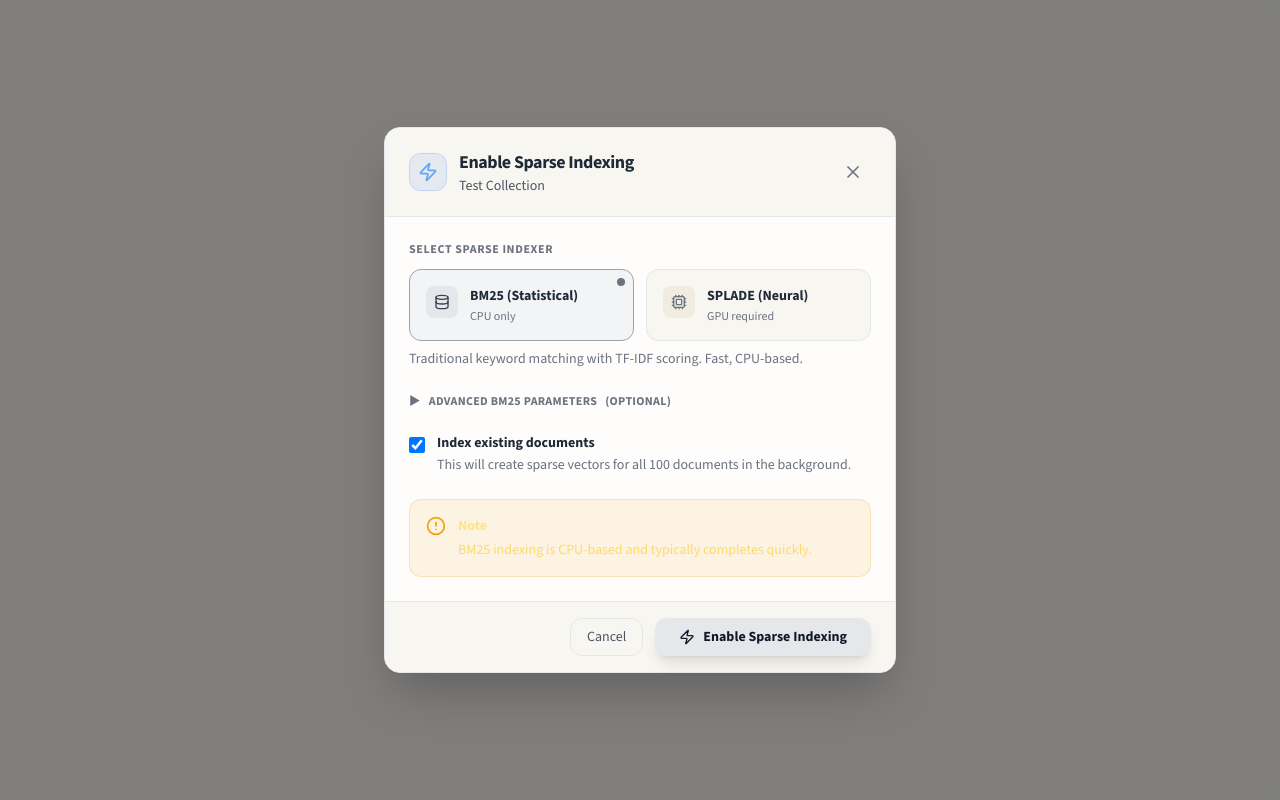
Test: SparseIndexConfigModal › plugin selection › updates plugin description when selection changes
The image size is (1280, 800).
expect the text "Traditional keyword matching with TF-IDF scoring" is shown: met, box x1=409 y1=349 x2=803 y2=368
Note: Click SPLADE
What coordinates should you click on to do the following:
click the text "SPLADE (Neural)"
I would click on:
 (758, 296)
Its box is x1=707 y1=286 x2=808 y2=306.
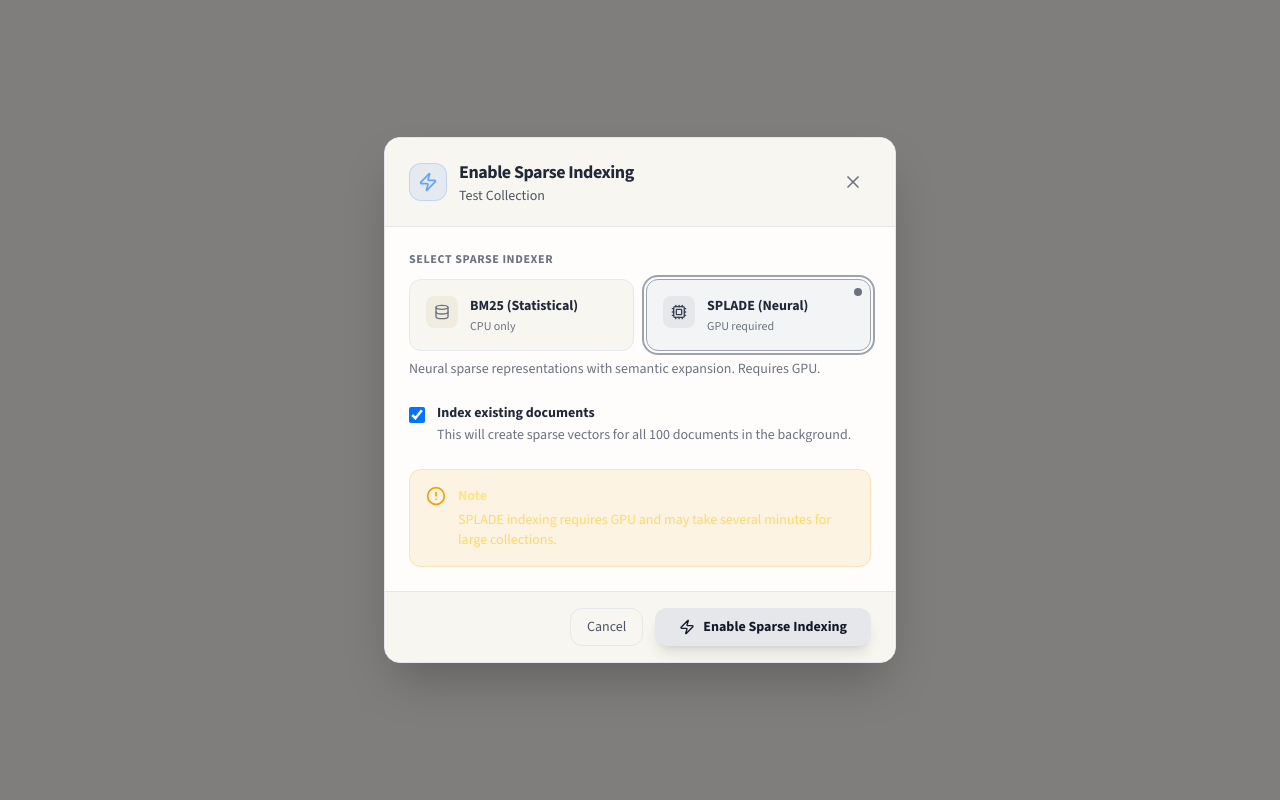
expect the text "Neural sparse representations with semantic expansion" is shown: met, box x1=409 y1=359 x2=821 y2=378
